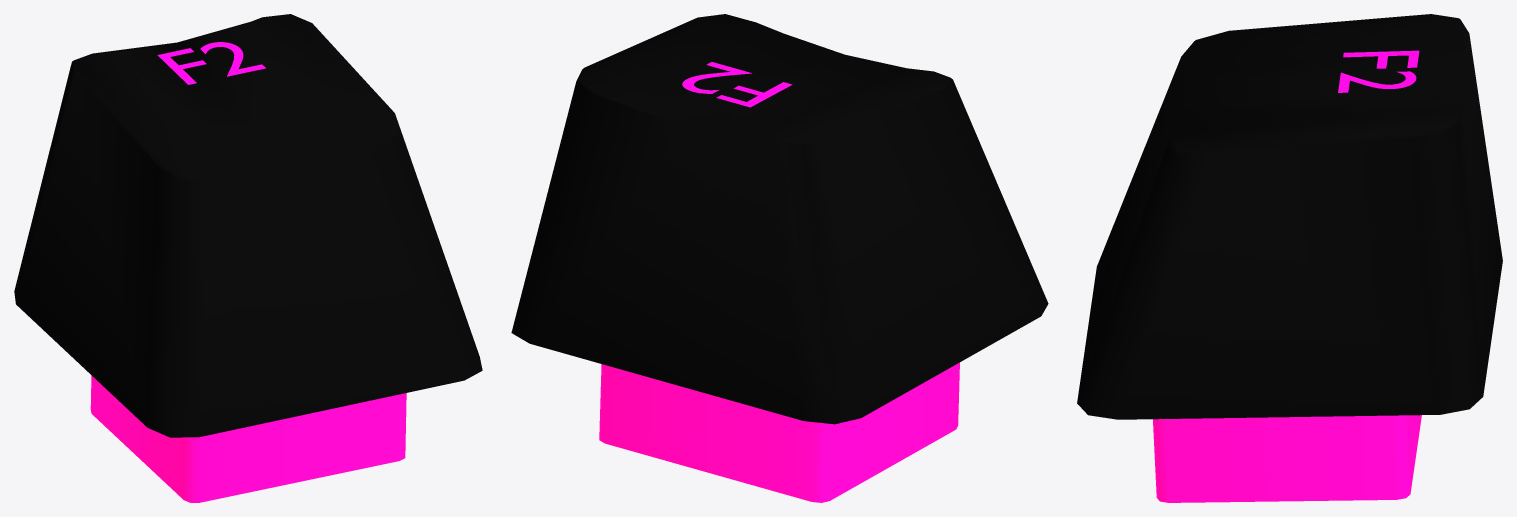
Rendered from f2-OUAYP8Xg.glb.
The picture shows the model from 3 angles, left to right: view 1: azimuth 30°, elevation 25°; view 2: azimuth 150°, elevation 25°; view 3: azimuth 270°, elevation 25°; orthographic projection. The views are drawn at different scales.
Parts seen in each view (by area): view 1: StudyShelf_1148; view 2: StudyShelf_1148; view 3: StudyShelf_1148.
Part boxes in pixels (x1=…): StudyShelf_1148: x1=14, y1=14, x2=482, y2=502; StudyShelf_1148: x1=511, y1=14, x2=1048, y2=502; StudyShelf_1148: x1=1077, y1=14, x2=1502, y2=502.
Bounding box in the file's own units: 4.35 × 4.31 × 4.35.
